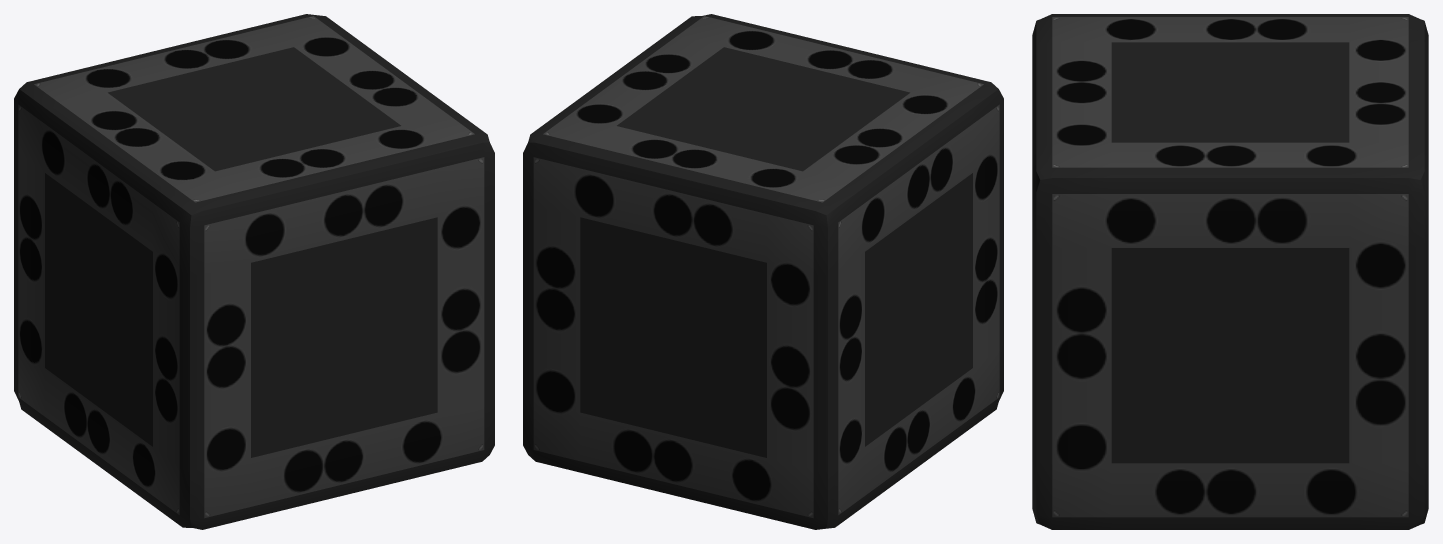
File: robotBlock.obj
3 views of the same model, side by side, from view 1: azimuth 30°, elevation 25°; view 2: azimuth 150°, elevation 25°; view 3: azimuth 270°, elevation 25° (orthographic). The views are drawn at different scales.
Visible parts, largest first — view 1: robotBlock; view 2: robotBlock; view 3: robotBlock.
Boxes of the visible parts, <box> form: robotBlock: <box>14,14,494,529</box>; robotBlock: <box>523,14,1003,529</box>; robotBlock: <box>1032,14,1428,529</box>.
Bounding box in the file's own units: 10 × 10 × 10.
